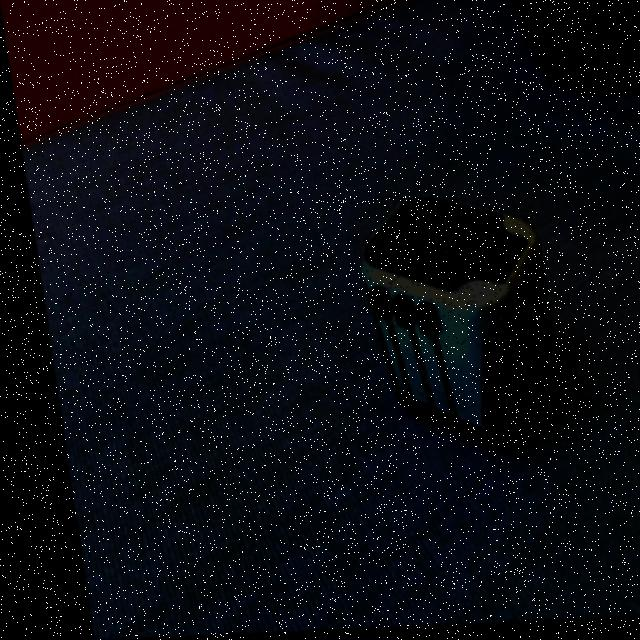adapter: (342, 192, 557, 458)
